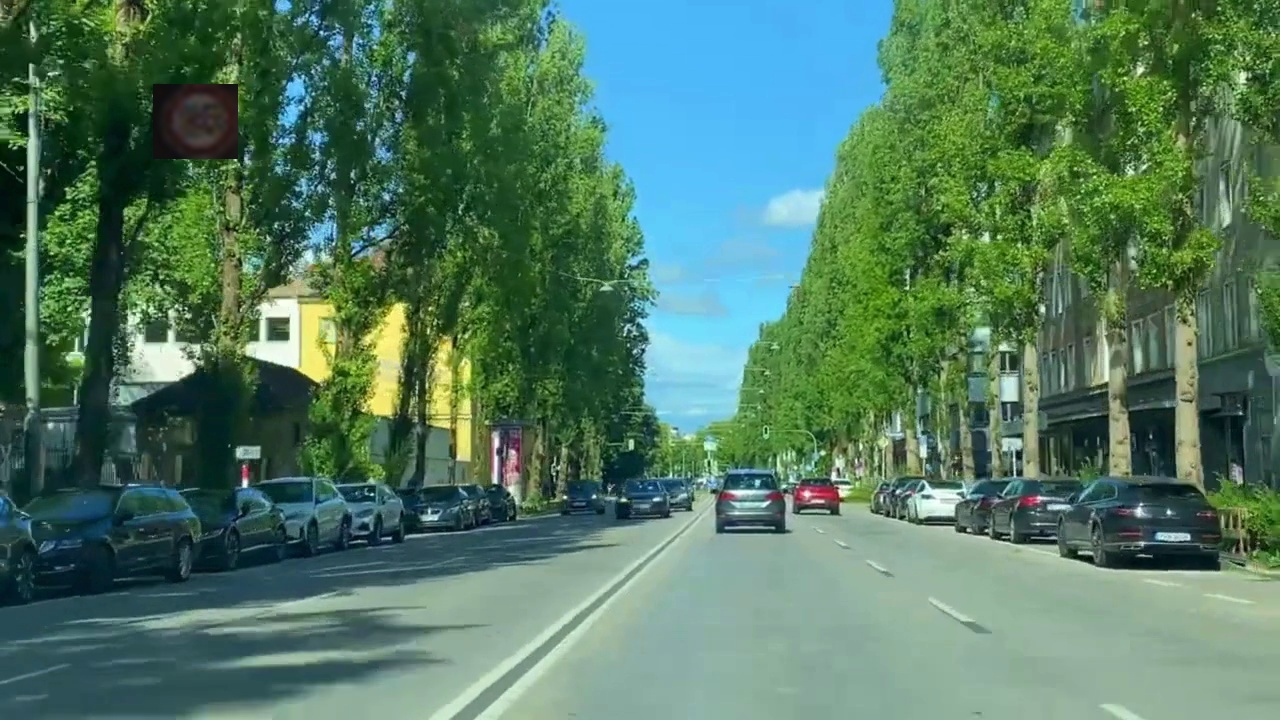Speed 80: (153, 84, 238, 159)
